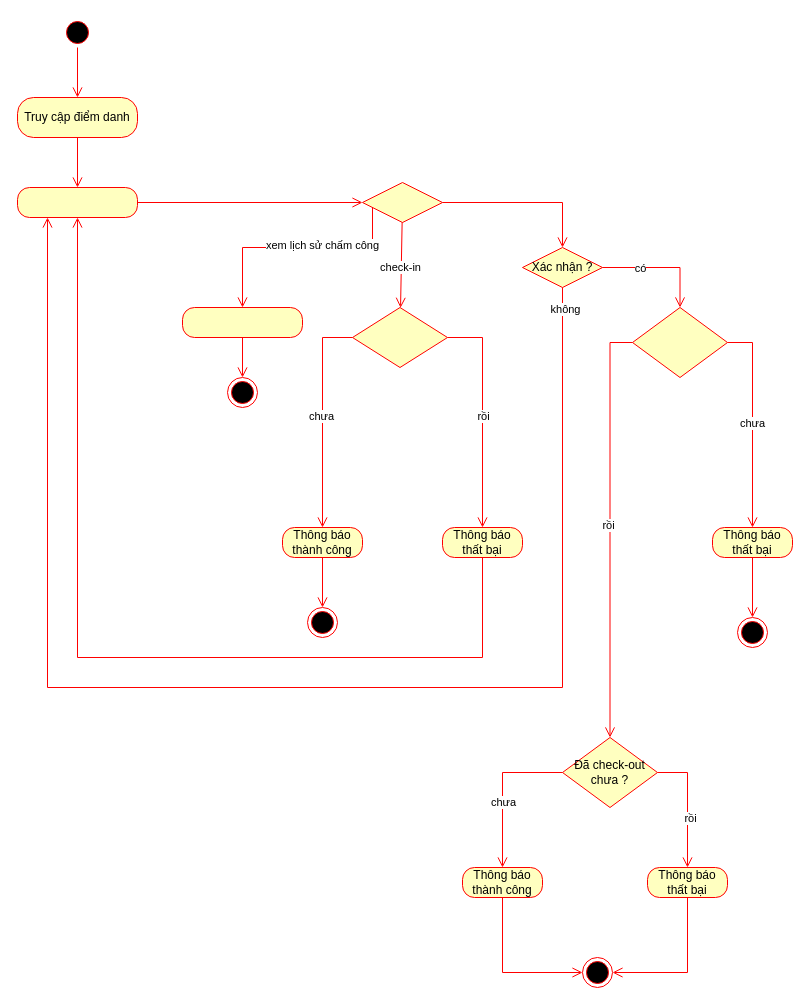
Image size: 810x1005. Some labels were removed from this diagram. The centre of each missing label's shape, as x and y in pixels:
"Chọn chức năng" belongs at (77,202).
"Hiển thị lịch sử điểm danh tháng hiện tại" belongs at (242,322).
"Đã check in chưa ?" belongs at (400,337).
"Đã check-in chưa ?" belongs at (680,342).
